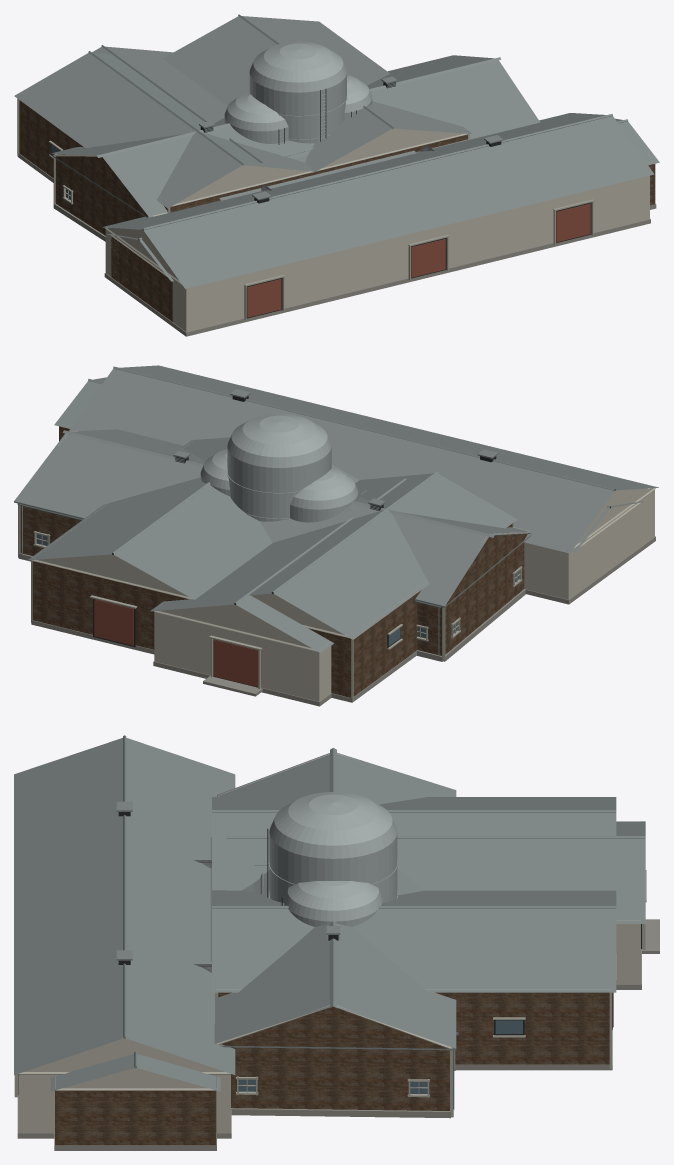
Rendered from valley-farm-low.glb.
3 renders of one model, top to bottom at view 1: azimuth 30°, elevation 25°; view 2: azimuth 150°, elevation 25°; view 3: azimuth 270°, elevation 25°, orthographic. The views are drawn at different scales.
Parts seen in each view (by area): view 1: lane-courtyard-barn, contour-dairy, north-farm-barn, contour-tall-silo, contour-twin-silos, ridge-workshop; view 2: lane-courtyard-barn, contour-dairy, north-farm-barn, contour-tall-silo, contour-twin-silos; view 3: lane-courtyard-barn, contour-dairy, north-farm-barn, contour-tall-silo, contour-twin-silos.
Part boxes in pixels (x1=…): lane-courtyard-barn: x1=92, y1=45, x2=654, y2=336; contour-dairy: x1=14, y1=14, x2=659, y2=326; north-farm-barn: x1=50, y1=55, x2=540, y2=241; contour-tall-silo: x1=249, y1=41, x2=347, y2=143; contour-twin-silos: x1=224, y1=75, x2=372, y2=144; ridge-workshop: x1=219, y1=147, x2=416, y2=200; lane-courtyard-barn: x1=69, y1=365, x2=658, y2=706; contour-dairy: x1=28, y1=377, x2=644, y2=702; north-farm-barn: x1=14, y1=429, x2=531, y2=661; contour-tall-silo: x1=227, y1=413, x2=331, y2=521; contour-twin-silos: x1=200, y1=449, x2=358, y2=522; lane-courtyard-barn: x1=14, y1=735, x2=659, y2=1138; contour-dairy: x1=50, y1=797, x2=616, y2=1150; north-farm-barn: x1=214, y1=748, x2=456, y2=1118; contour-tall-silo: x1=267, y1=792, x2=398, y2=902; contour-twin-silos: x1=281, y1=881, x2=382, y2=926.
Size of the model in its own units: 50.6 by 14.11 by 44.09.
13 materials, 2 textured.
